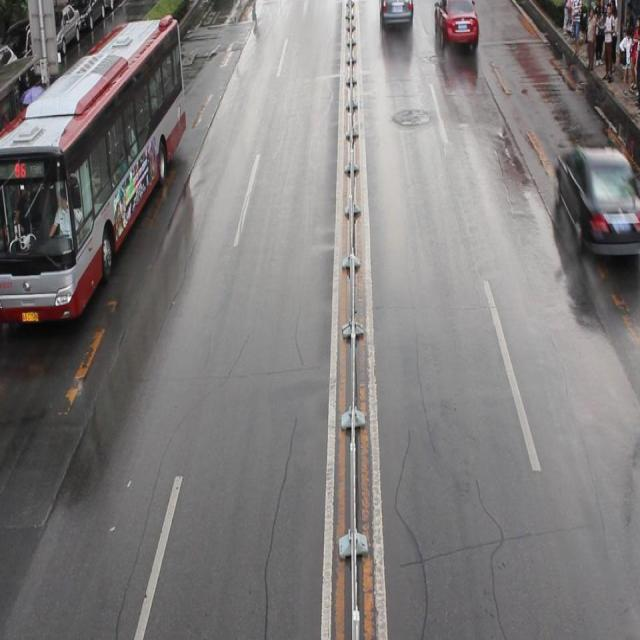car: (555, 147, 640, 256), (432, 1, 478, 46), (379, 1, 412, 26)
van: (1, 17, 186, 321)
